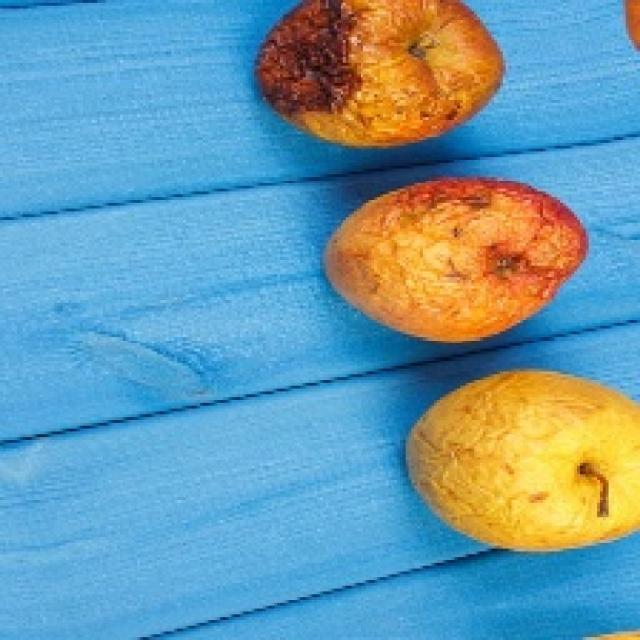apple: (325, 177, 587, 342), (407, 371, 639, 550), (256, 0, 503, 147)
